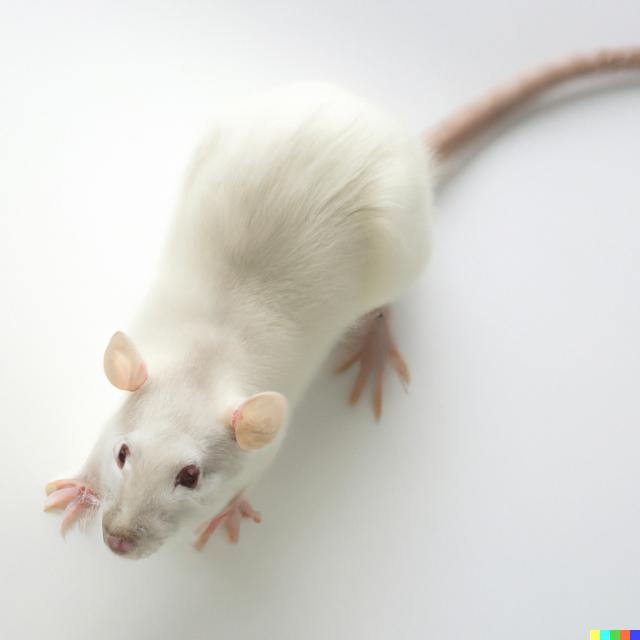rodent: (64, 69, 453, 579)
